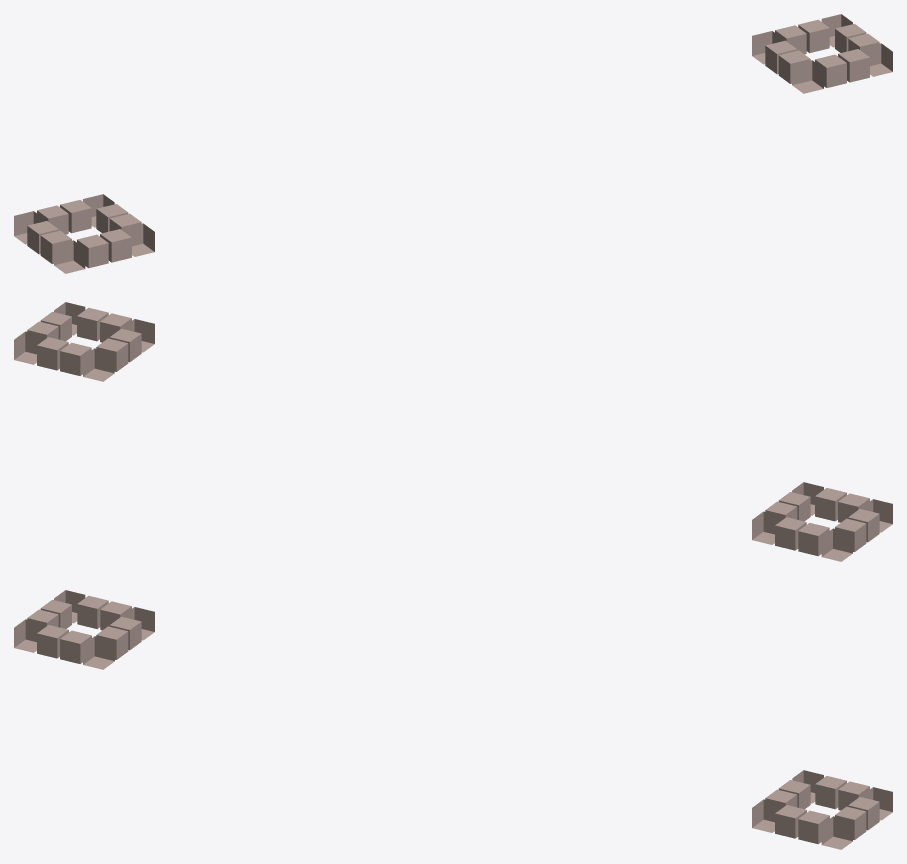
3 views of the same model, one above another, from view 1: azimuth 30°, elevation 25°; view 2: azimuth 150°, elevation 25°; view 3: azimuth 330°, elevation 25° (orthographic).
Size of the model in its own units: 2.15 by 0.0505 by 0.2323.
